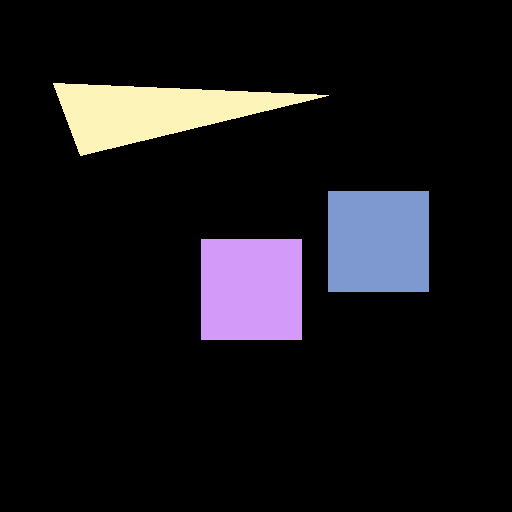square: (201, 239, 301, 339), (328, 191, 428, 291)
triangle: (53, 83, 328, 155)
